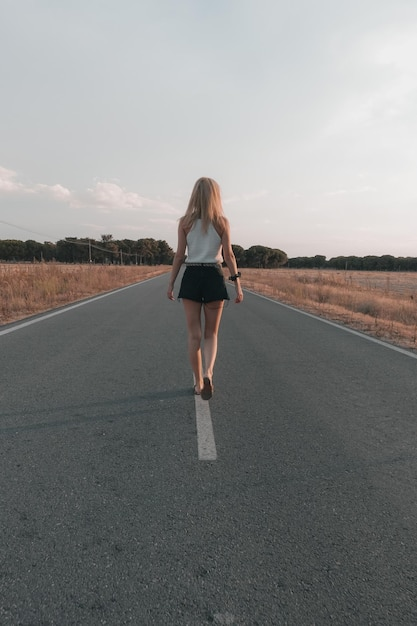Person: (157, 173, 253, 405)
